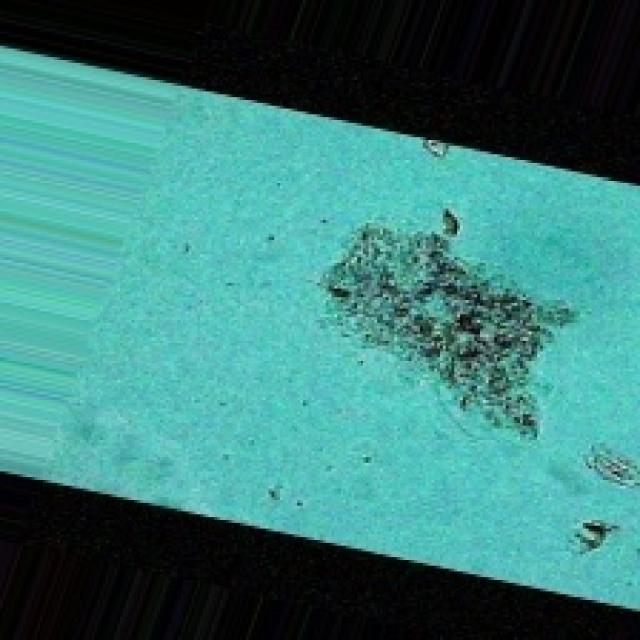Amoeba: (317, 206, 577, 440)
